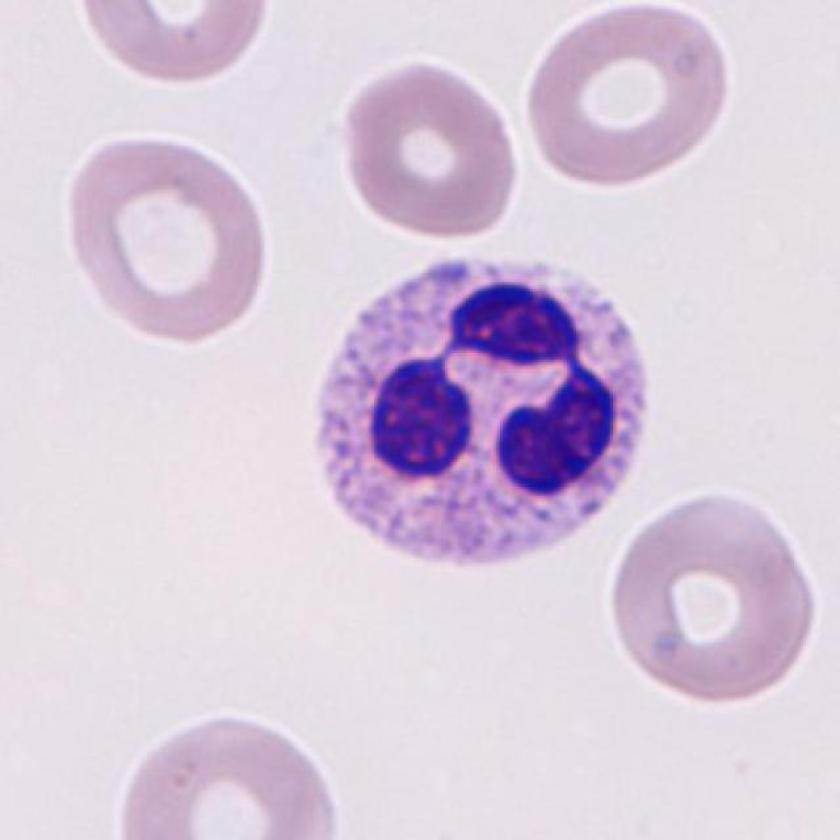neutrophil: (315, 257, 656, 563)
